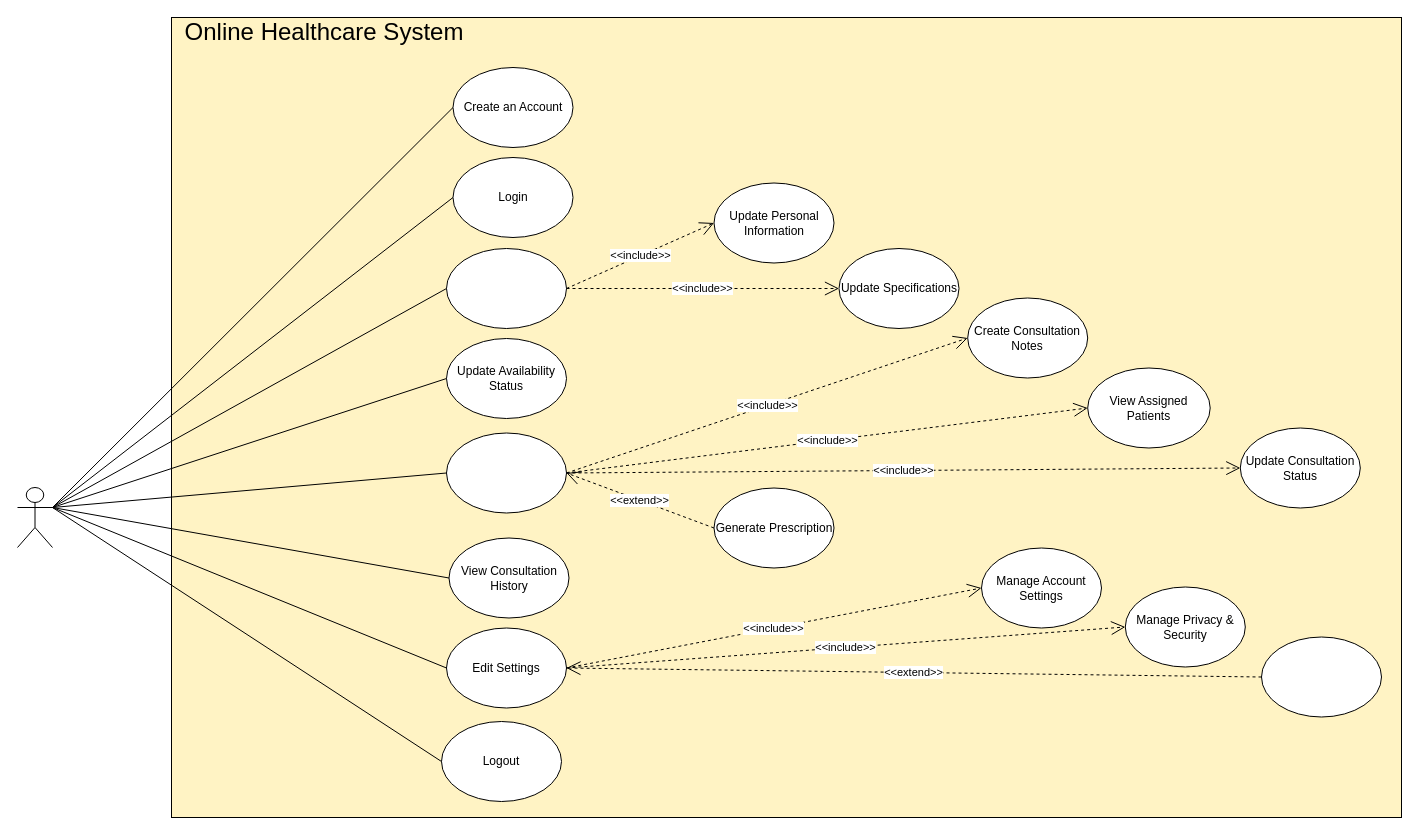
Some shapes in this 1419 by 835 pixel diagram are drawn without their labels. Each missing label, with the centre of its shape:
Conduct Consultation: [506,472]
Delete Account: [1321,676]
Doctor: [34,517]
Edit Profile: [506,288]
